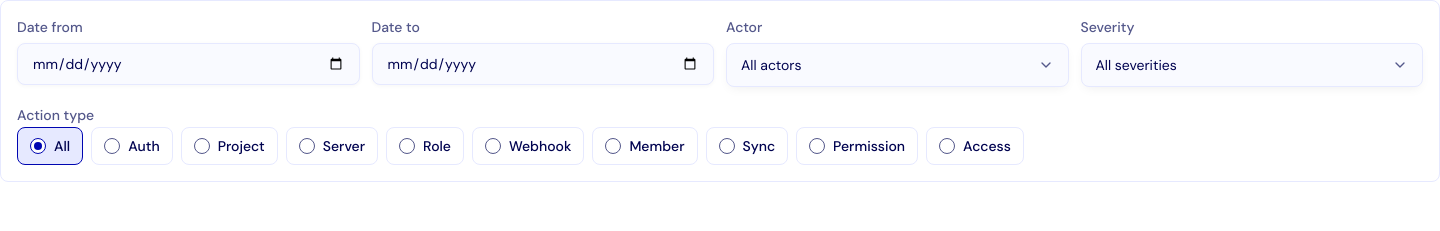
Test: monitoring components › updates audit date, severity, and actor filters
The width and height of the screenshot is (1440, 231).
Type "2026-04-01" into the date field labelled "Date from" at coordinates (188, 64), box [18,44,358,84]
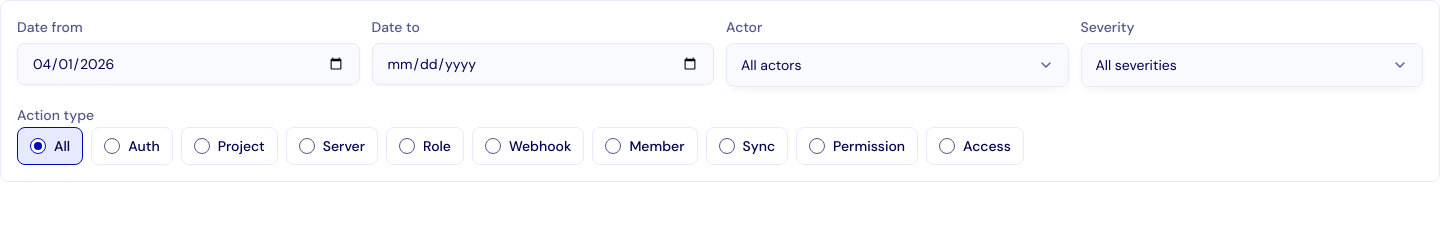
Type "2026-04-30" into the date field labelled "Date to" at coordinates (543, 64), box [372,44,713,84]
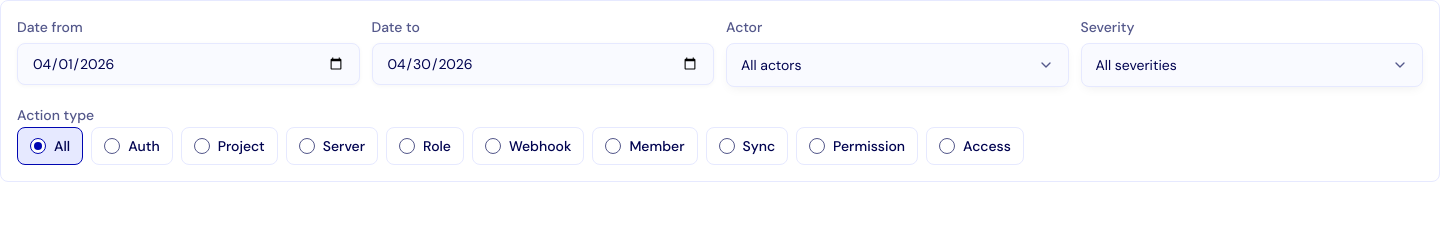
Click the dropdown labelled "actor" at coordinates (771, 65), box [726,43,1068,87]
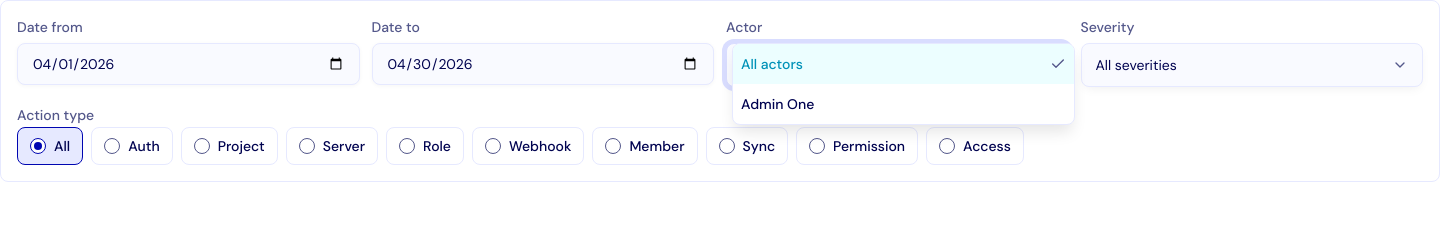
Click the option "Admin One" at coordinates (778, 104), box [741,95,814,113]
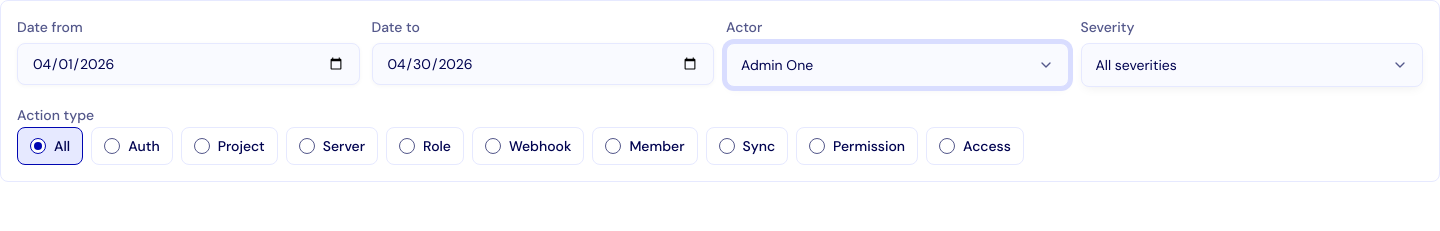
Click the dropdown named "Severity" at coordinates (1136, 65), box [1080,43,1423,87]
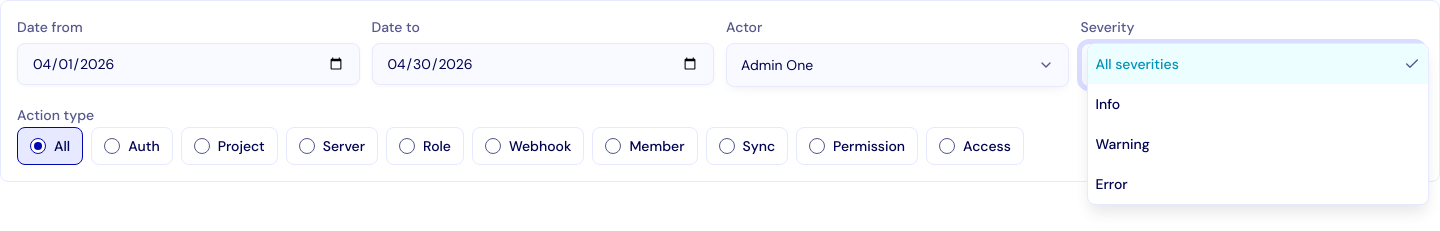
Click the option "Warning" at coordinates (1123, 144), box [1096,135,1150,153]
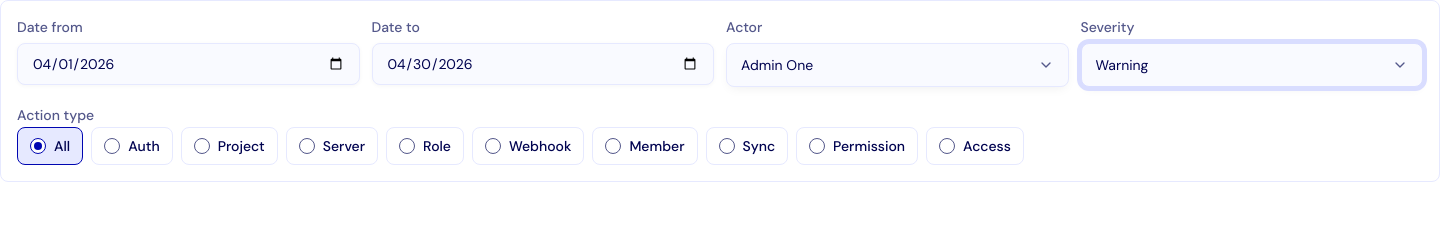
Result: the dropdown named "Actor" shows "Admin One" at [726,43,1068,87]
Result: the dropdown named "Severity" shows "Warning" at [1080,43,1423,87]
